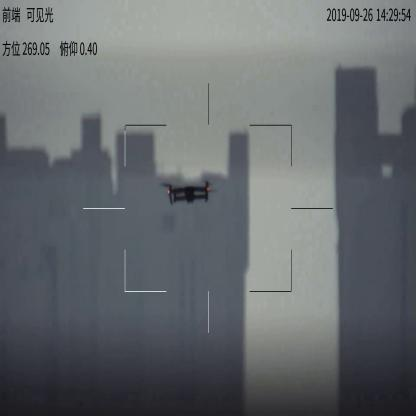uav: (159, 180, 215, 204)
